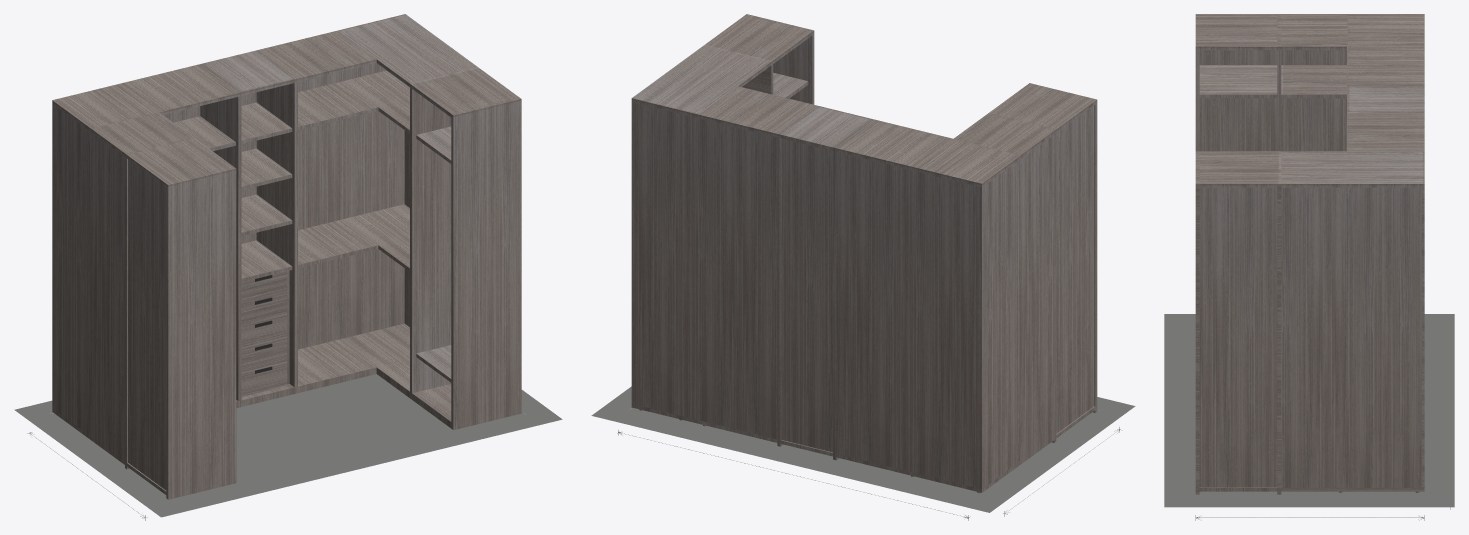
3 views of the same model, side by side, from view 1: azimuth 30°, elevation 25°; view 2: azimuth 150°, elevation 25°; view 3: azimuth 270°, elevation 25° (orthographic).
Visible parts, largest first — view 1: Mesh5 D1_SC_DXF1 Model, Mesh27 D1_SC_DXF1 Model, Mesh1 D1_SC_DXF1 Model, Mesh103 D1_SC_DXF1 Model, Mesh67 D1_SC_DXF1 Model, Mesh109 D1_SC_DXF1 Model, Mesh6 D1_SC_DXF1 Model, Mesh110 D1_SC_DXF1 Model, Mesh60 D1_SC_DXF1 Model, Mesh73 D1_SC_DXF1 Model, Mesh82 D1_SC_DXF1 Model, Mesh83 D1_SC_DXF1 Model (+9 smaller); view 2: Mesh27 D1_SC_DXF1 Model, Mesh67 D1_SC_DXF1 Model, Mesh5 D1_SC_DXF1 Model, Mesh53 D1_SC_DXF1 Model, Mesh6 D1_SC_DXF1 Model, Mesh110 D1_SC_DXF1 Model, Mesh109 D1_SC_DXF1 Model, Mesh103 D1_SC_DXF1 Model, Mesh1 D1_SC_DXF1 Model, Mesh20 D1_SC_DXF1 Model, Mesh95 D1_SC_DXF1 Model, Mesh60 D1_SC_DXF1 Model; view 3: Mesh67 D1_SC_DXF1 Model, Mesh5 D1_SC_DXF1 Model, Mesh94 D1_SC_DXF1 Model, Mesh110 D1_SC_DXF1 Model, Mesh6 D1_SC_DXF1 Model, Mesh27 D1_SC_DXF1 Model, Mesh109 D1_SC_DXF1 Model, Mesh10 D1_SC_DXF1 Model, Mesh33 D1_SC_DXF1 Model, Mesh103 D1_SC_DXF1 Model, Mesh1 D1_SC_DXF1 Model, Mesh60 D1_SC_DXF1 Model (+1 smaller).
Part boxes in pixels (box(x1,y1,x2,y2)): Mesh5 D1_SC_DXF1 Model: box(52, 14, 519, 469); Mesh27 D1_SC_DXF1 Model: box(52, 104, 200, 460); Mesh1 D1_SC_DXF1 Model: box(166, 167, 236, 499); Mesh103 D1_SC_DXF1 Model: box(451, 97, 521, 429); Mesh67 D1_SC_DXF1 Model: box(298, 63, 409, 349); Mesh109 D1_SC_DXF1 Model: box(51, 374, 526, 501); Mesh6 D1_SC_DXF1 Model: box(128, 159, 166, 490); Mesh110 D1_SC_DXF1 Model: box(14, 390, 562, 517); Mesh60 D1_SC_DXF1 Model: box(298, 323, 409, 390); Mesh73 D1_SC_DXF1 Model: box(298, 81, 378, 130); Mesh82 D1_SC_DXF1 Model: box(298, 219, 378, 268); Mesh83 D1_SC_DXF1 Model: box(343, 204, 409, 271); Mesh27 D1_SC_DXF1 Model: box(836, 135, 1054, 489); Mesh67 D1_SC_DXF1 Model: box(631, 102, 777, 439); Mesh5 D1_SC_DXF1 Model: box(631, 15, 1095, 460); Mesh53 D1_SC_DXF1 Model: box(781, 138, 832, 452); Mesh6 D1_SC_DXF1 Model: box(1056, 105, 1094, 433); Mesh110 D1_SC_DXF1 Model: box(591, 386, 1135, 512); Mesh109 D1_SC_DXF1 Model: box(627, 408, 1099, 497); Mesh103 D1_SC_DXF1 Model: box(745, 14, 814, 104); Mesh1 D1_SC_DXF1 Model: box(1028, 83, 1097, 412); Mesh20 D1_SC_DXF1 Model: box(836, 437, 1054, 492); Mesh95 D1_SC_DXF1 Model: box(773, 72, 808, 98); Mesh60 D1_SC_DXF1 Model: box(631, 404, 777, 442); Mesh67 D1_SC_DXF1 Model: box(1281, 187, 1424, 487); Mesh5 D1_SC_DXF1 Model: box(1199, 14, 1424, 494); Mesh94 D1_SC_DXF1 Model: box(1199, 187, 1277, 487); Mesh110 D1_SC_DXF1 Model: box(1164, 314, 1454, 507); Mesh6 D1_SC_DXF1 Model: box(1199, 50, 1277, 151); Mesh27 D1_SC_DXF1 Model: box(1281, 50, 1346, 151); Mesh109 D1_SC_DXF1 Model: box(1190, 325, 1428, 496); Mesh10 D1_SC_DXF1 Model: box(1199, 65, 1277, 98); Mesh33 D1_SC_DXF1 Model: box(1281, 65, 1346, 98); Mesh103 D1_SC_DXF1 Model: box(1195, 151, 1199, 494); Mesh1 D1_SC_DXF1 Model: box(1195, 14, 1199, 151); Mesh60 D1_SC_DXF1 Model: box(1281, 488, 1424, 491).
Bounding box in the file's own units: 139 × 109 × 87.64.
Materials: 4 (1 with a texture image).
